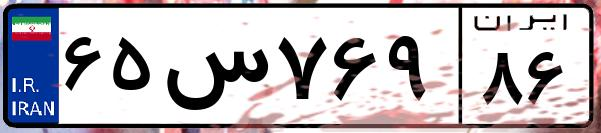5: (110, 28, 158, 98)
6: (330, 28, 385, 110), (57, 26, 110, 100), (525, 38, 570, 115)
7: (270, 28, 330, 110)
8: (475, 38, 525, 113)
9: (385, 28, 445, 110)
س: (158, 20, 270, 120)
